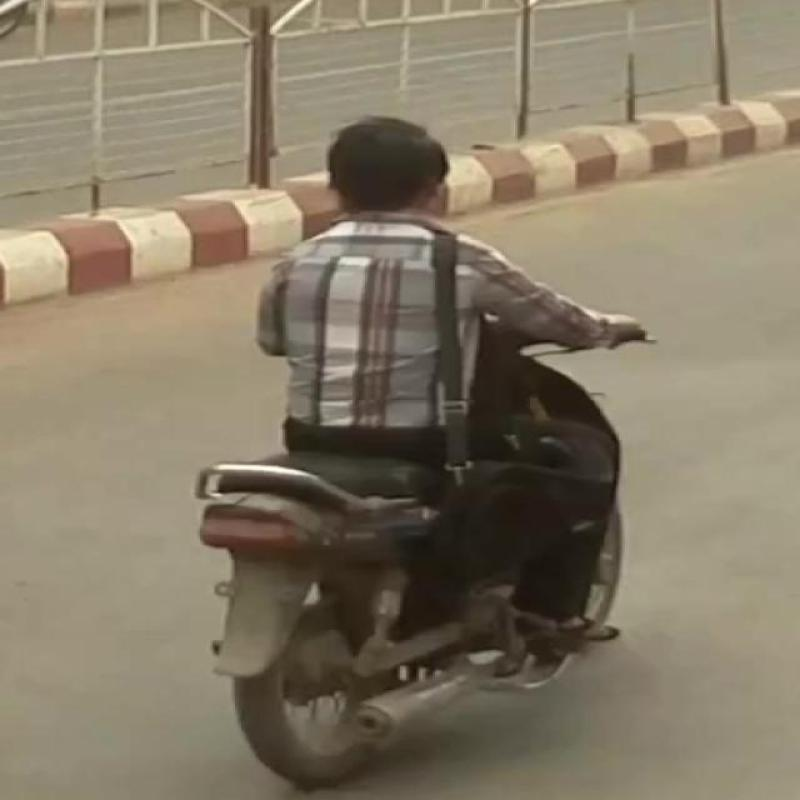nohelmet: (310, 108, 500, 241)
